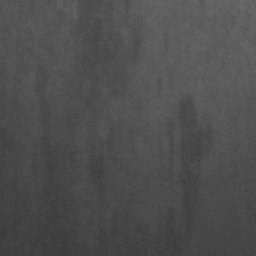Inclusion: (178, 95, 202, 225)
